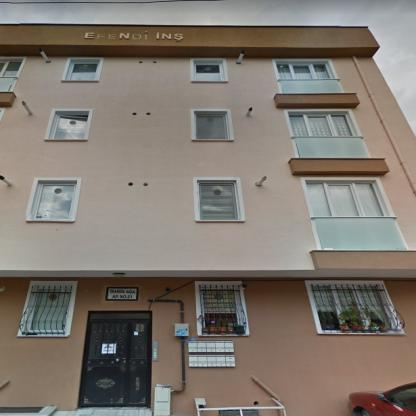door: (81, 321, 150, 406)
window: (311, 284, 389, 330), (307, 183, 383, 216), (26, 287, 70, 330), (199, 182, 237, 220), (35, 184, 75, 219), (288, 115, 352, 135), (202, 291, 239, 323), (53, 113, 88, 138), (195, 112, 228, 138), (276, 63, 332, 78), (68, 63, 98, 79), (194, 62, 220, 80), (90, 313, 149, 319), (0, 61, 22, 76)
